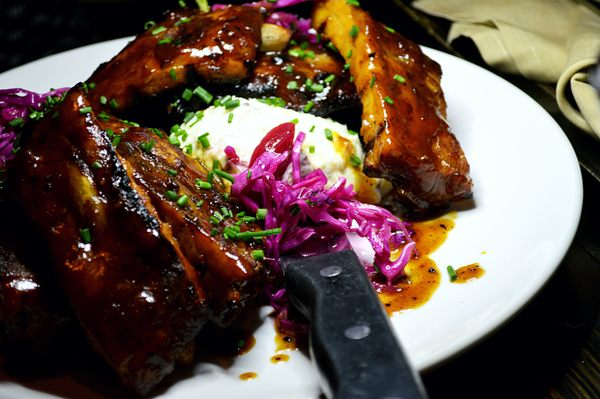sandwich: (281, 250, 429, 396)
